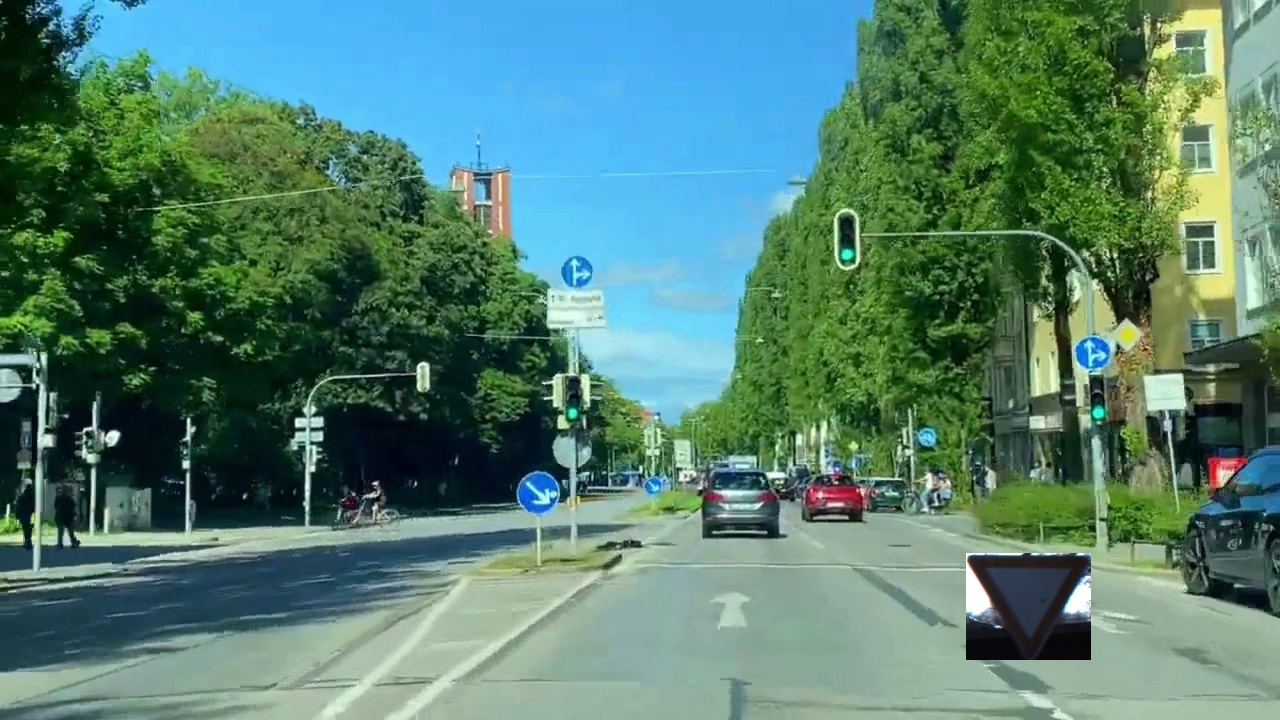Yield: (966, 553, 1091, 660)
